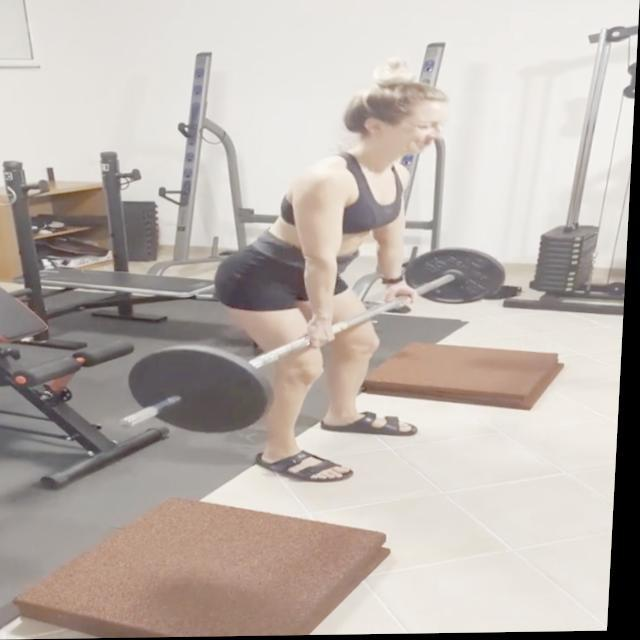barbell: (119, 345, 283, 439)
